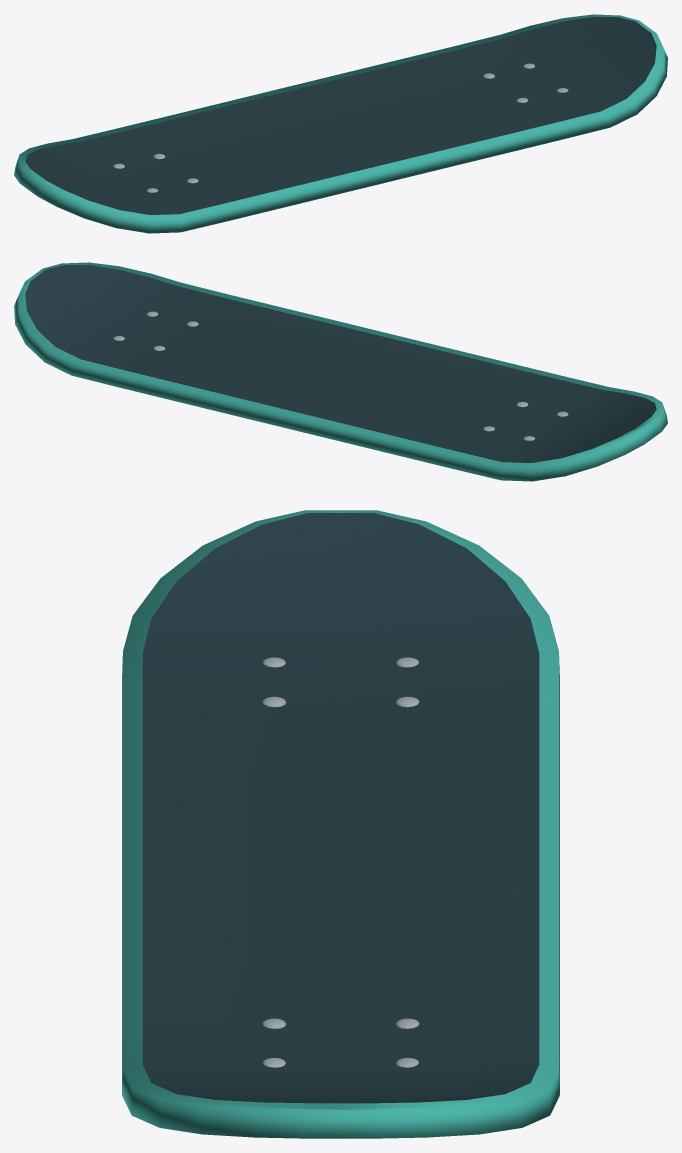
Rendered from board.glb.
3 renders of one model, top to bottom at view 1: azimuth 30°, elevation 25°; view 2: azimuth 150°, elevation 25°; view 3: azimuth 270°, elevation 25°, orthographic. The views are drawn at different scales.
Parts seen in each view (by area): view 1: board_textured_mesh; view 2: board_textured_mesh; view 3: board_textured_mesh.
Part boxes in pixels (bbox=[...]): board_textured_mesh: bbox=[14, 14, 667, 233]; board_textured_mesh: bbox=[14, 262, 667, 481]; board_textured_mesh: bbox=[122, 510, 559, 1138].
Bounding box in the file's own units: 4.96 × 0.3959 × 1.51.
Materials: 1 (1 with a texture image).
